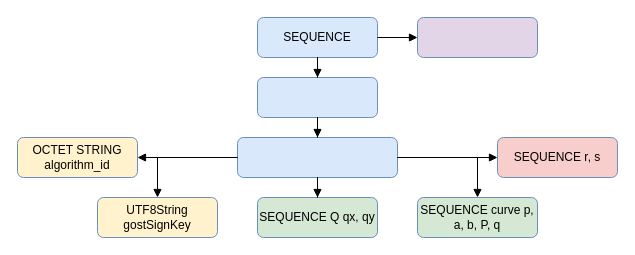
Image size: 635x255. Some labels were removed from this diagram. The centre of each missing label's shape, as x and y in pixels:
SEQUENCE {} file params: pixel 477 37
SEQUENCE: параметры подписи: pixel 317 157
SET: pixel 317 97
